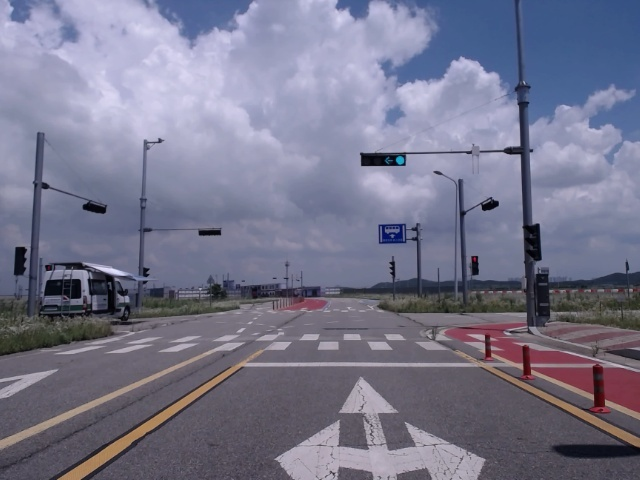all_green_4: (361, 151, 405, 165)
